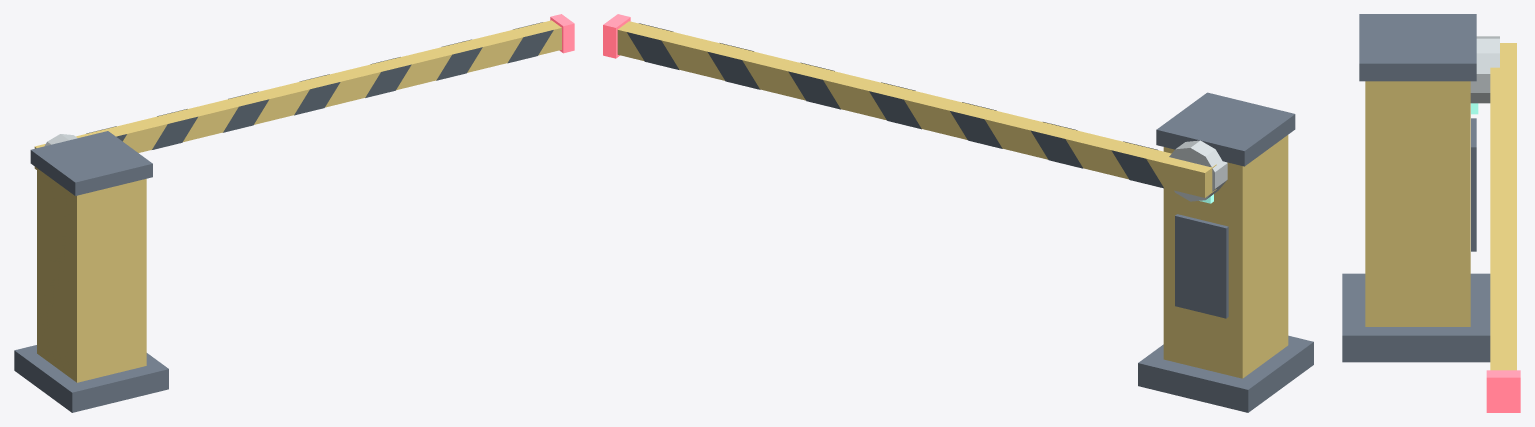
The model's file is parking_barrier.glb.
3 renders of one model, left to right at view 1: azimuth 30°, elevation 25°; view 2: azimuth 150°, elevation 25°; view 3: azimuth 270°, elevation 25°, orthographic. The views are drawn at different scales.
Parts seen in each view (by area): view 1: Post, Boom_Core, Post_Cap, Footing, Diagonal_Stripe_3, Diagonal_Stripe_4, Diagonal_Stripe_2, Diagonal_Stripe_5, Diagonal_Stripe_6, Diagonal_Stripe_1, Boom_End_Cap; view 2: Post, Boom_Core, Footing, Post_Cap, Access_Panel, Hinge_Housing, Diagonal_Stripe_1, Diagonal_Stripe_3, Diagonal_Stripe_4, Diagonal_Stripe_5, Diagonal_Stripe_0, Diagonal_Stripe_6 (+2 smaller); view 3: Post, Boom_Core, Post_Cap, Footing, Boom_End_Cap, Hinge_Housing, Access_Panel.
Part boxes in pixels (<box>): Post: <box>37,168,146,382</box>; Boom_Core: <box>34,20,561,169</box>; Post_Cap: <box>30,131,152,195</box>; Footing: <box>14,345,168,412</box>; Diagonal_Stripe_3: <box>294,82,340,115</box>; Diagonal_Stripe_4: <box>365,64,411,97</box>; Diagonal_Stripe_2: <box>223,99,269,132</box>; Diagonal_Stripe_5: <box>436,47,482,80</box>; Diagonal_Stripe_6: <box>507,30,553,63</box>; Diagonal_Stripe_1: <box>152,116,197,149</box>; Boom_End_Cap: <box>550,14,574,53</box>; Post: <box>1163,135,1288,378</box>; Boom_Core: <box>617,21,1216,197</box>; Footing: <box>1138,335,1313,412</box>; Post_Cap: <box>1156,92,1295,166</box>; Access_Panel: <box>1175,214,1228,318</box>; Hinge_Housing: <box>1169,140,1227,201</box>; Diagonal_Stripe_1: <box>1030,130,1083,168</box>; Diagonal_Stripe_3: <box>869,91,921,129</box>; Diagonal_Stripe_4: <box>788,71,840,109</box>; Diagonal_Stripe_5: <box>707,51,760,89</box>; Diagonal_Stripe_0: <box>1111,150,1163,188</box>; Diagonal_Stripe_6: <box>627,32,679,69</box>; Post: <box>1365,81,1470,326</box>; Boom_Core: <box>1490,43,1516,370</box>; Post_Cap: <box>1359,14,1476,81</box>; Footing: <box>1342,273,1490,362</box>; Boom_End_Cap: <box>1486,370,1520,412</box>; Hinge_Housing: <box>1470,36,1499,103</box>; Access_Panel: <box>1471,118,1476,251</box>.
Size of the model in its own units: 3.45 by 1.32 by 0.73.
